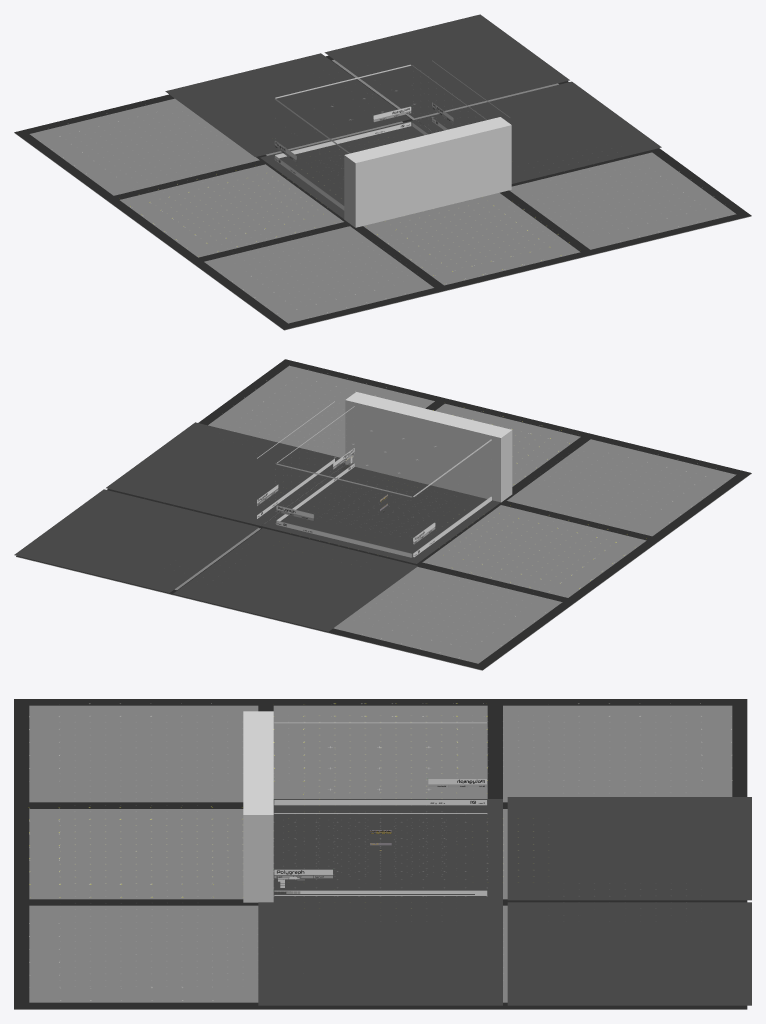
Rendered from parcel1x1.glb.
3 renders of one model, top to bottom at view 1: azimuth 30°, elevation 25°; view 2: azimuth 150°, elevation 25°; view 3: azimuth 270°, elevation 25°, orthographic. The views are drawn at different scales.
Visible parts, largest first — view 1: 32x16Floor.007, 32x16Floor.005, baseFloor.002, baseFloor.003, 32x16Floor.011, Cube, baseFloor.001, 32x16Floor.002, 32x16Floor.001, baseFloor, Cube.001, roadEast.006 (+16 smaller); view 2: 32x16Floor.007, baseFloor.003, baseFloor.002, 32x16Floor.005, baseFloor.001, baseFloor, Cube.001, 32x16Floor.011, 32x16Floor.001, 32x16Floor.004, 32x16Floor.002, 32x16Floor.010 (+16 smaller); view 3: 32x16Floor.005, 32x16Floor.007, baseFloor.001, baseFloor.002, baseFloor.003, 32x16Floor.011, baseFloor, 32x16Floor.001, 32x16Floor.010, 32x16Floor.004, Cube, Cube.001 (+22 smaller).
Boxes of the visible parts, x1,y1,x2,y2 form: 32x16Floor.007: [14, 98, 349, 261]; 32x16Floor.005: [194, 193, 581, 330]; baseFloor.002: [324, 14, 569, 118]; baseFloor.003: [165, 53, 410, 156]; 32x16Floor.011: [509, 153, 751, 254]; Cube: [350, 121, 511, 227]; baseFloor.001: [416, 81, 661, 183]; 32x16Floor.002: [291, 183, 595, 292]; 32x16Floor.001: [104, 170, 339, 264]; baseFloor: [260, 119, 433, 218]; Cube.001: [344, 117, 505, 223]; roadEast.006: [15, 131, 199, 263]; 32x16Floor.007: [327, 525, 661, 670]; baseFloor.003: [173, 528, 417, 631]; baseFloor.002: [14, 489, 258, 592]; 32x16Floor.005: [436, 405, 751, 538]; baseFloor.001: [106, 422, 345, 525]; baseFloor: [261, 464, 500, 563]; Cube.001: [345, 396, 506, 502]; 32x16Floor.011: [208, 365, 434, 528]; 32x16Floor.001: [417, 528, 628, 604]; 32x16Floor.004: [422, 505, 640, 598]; 32x16Floor.002: [435, 403, 590, 488]; 32x16Floor.010: [448, 409, 589, 500]; 32x16Floor.005: [29, 705, 258, 906]; 32x16Floor.007: [274, 705, 732, 802]; baseFloor.001: [258, 902, 502, 1005]; baseFloor.002: [507, 902, 751, 1005]; baseFloor.003: [507, 797, 751, 900]; 32x16Floor.011: [14, 906, 501, 1009]; baseFloor: [273, 799, 502, 902]; 32x16Floor.001: [273, 705, 487, 798]; 32x16Floor.010: [29, 809, 255, 906]; 32x16Floor.004: [273, 705, 487, 798]; Cube: [243, 711, 258, 902]; Cube.001: [258, 711, 273, 902].
Size of what is drawn, in the model's own units: 48.01 by 6.62 by 48.3.
Materials: 19 (15 with a texture image).
